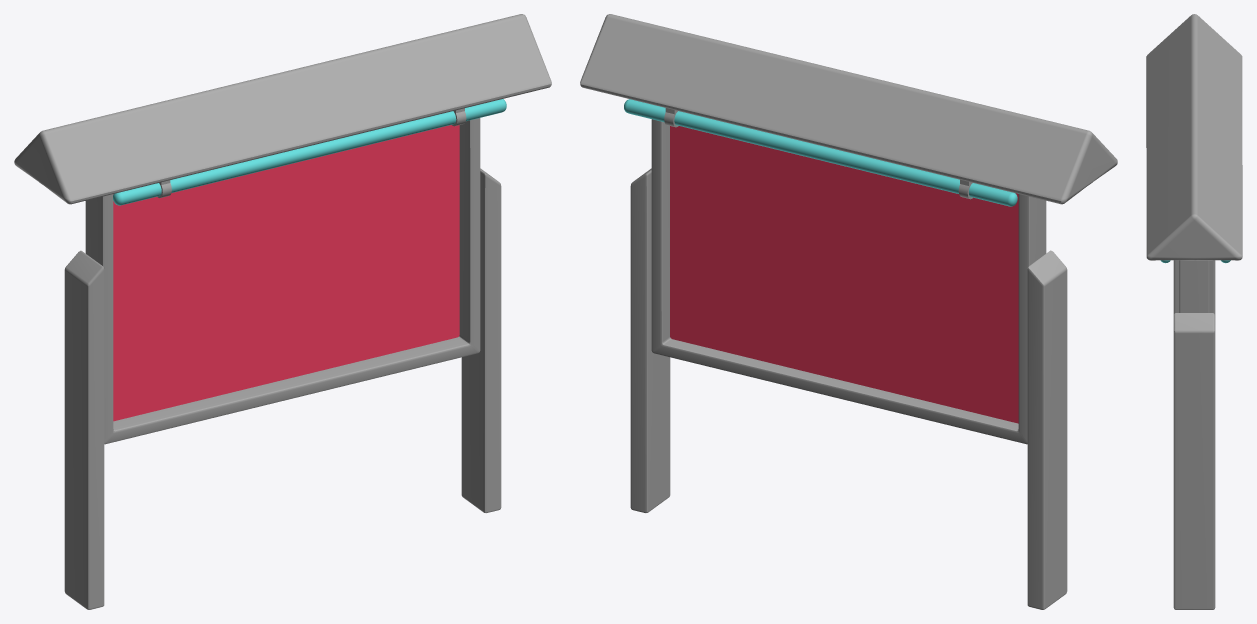
Rendered from Billboard.fbx.
The picture shows the model from 3 angles, left to right: view 1: azimuth 30°, elevation 25°; view 2: azimuth 150°, elevation 25°; view 3: azimuth 270°, elevation 25°; orthographic projection. The views are drawn at different scales.
Parts seen in each view (by area): view 1: Billboard; view 2: Billboard; view 3: Billboard.
Part boxes in pixels (x1,y1,x2,y2): Billboard: (14,14,551,609); Billboard: (580,14,1117,609); Billboard: (1146,14,1242,609).
Size of the model in its own units: 245 by 231 by 49.06.
